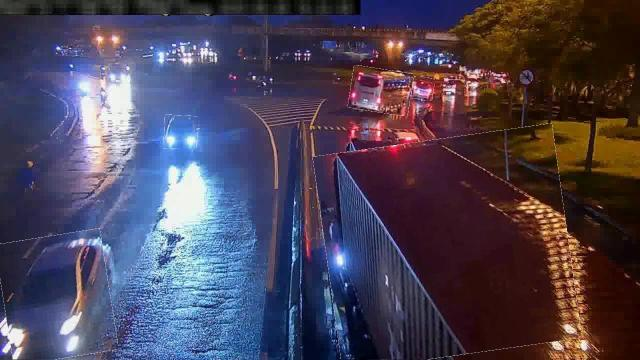Bus: (350, 68, 412, 114)
Car: (0, 232, 114, 360), (164, 115, 198, 149), (412, 77, 434, 101)
Truck: (320, 131, 574, 359)
